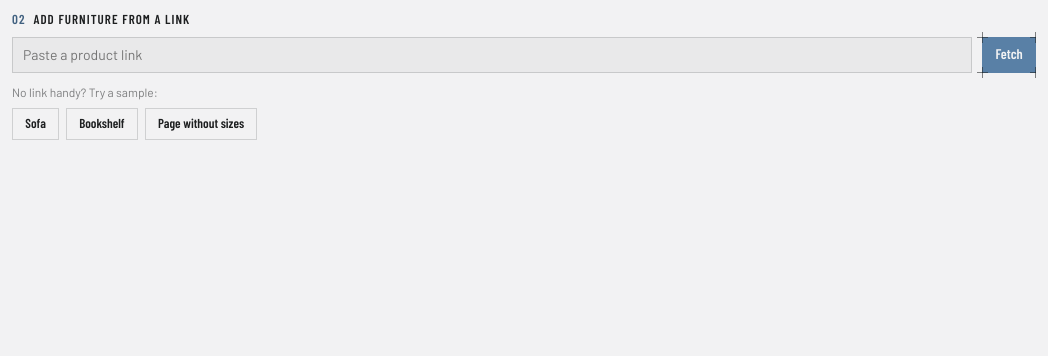
AddFurnitureSection › shows the missing-dimensions note and No price for an unknown product
This screenshot has width=1048, height=356.
Click the button "Sofa" at (36, 124), box [12,108,59,140]
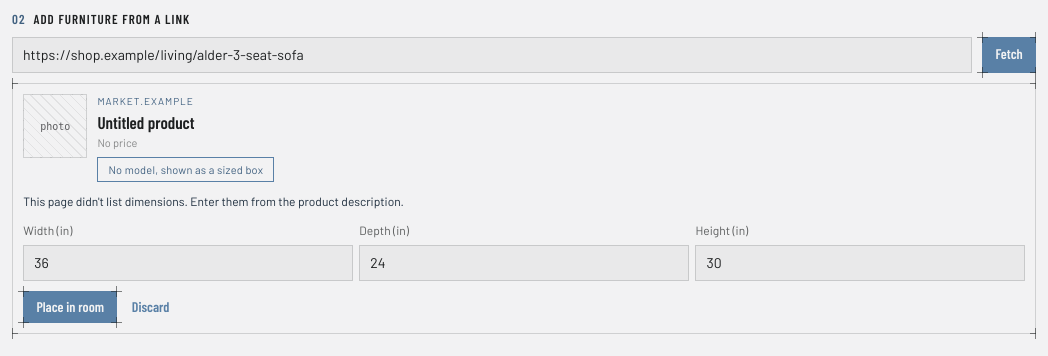
Now the text "This page didn't list dimensions. Enter them from the product description." is shown, box [23,194,404,208]
